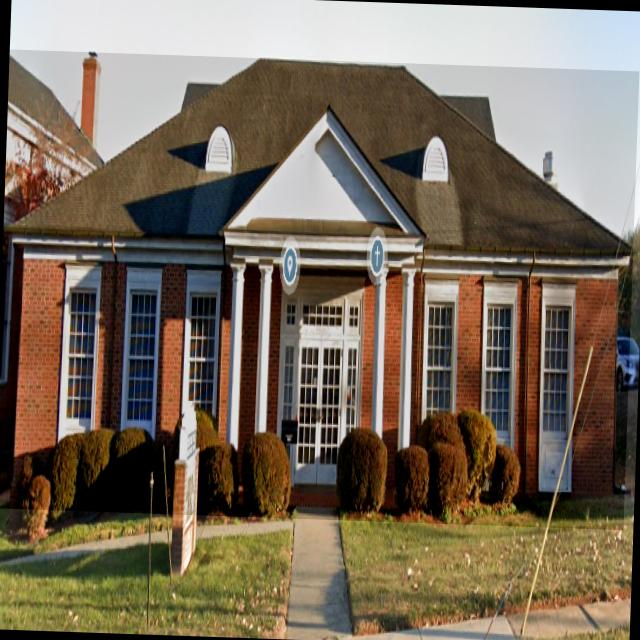House: (0, 49, 639, 530), (0, 51, 108, 469)
